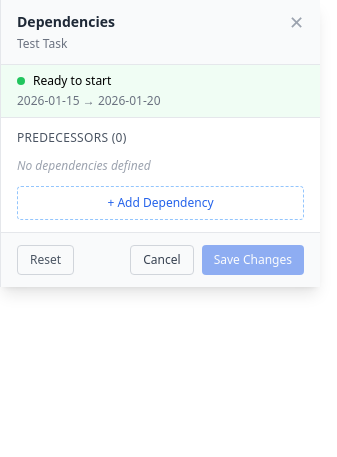
DependencyDrawer › opens add dependency form when button clicked
Click the button "+ Add Dependency": [160, 203] box [17,186,304,220]
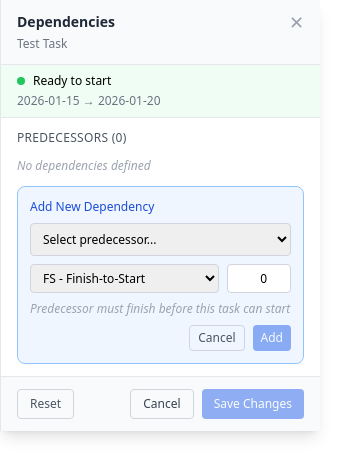
Expected: the text "Add New Dependency" is shown, [30,198,154,215]
